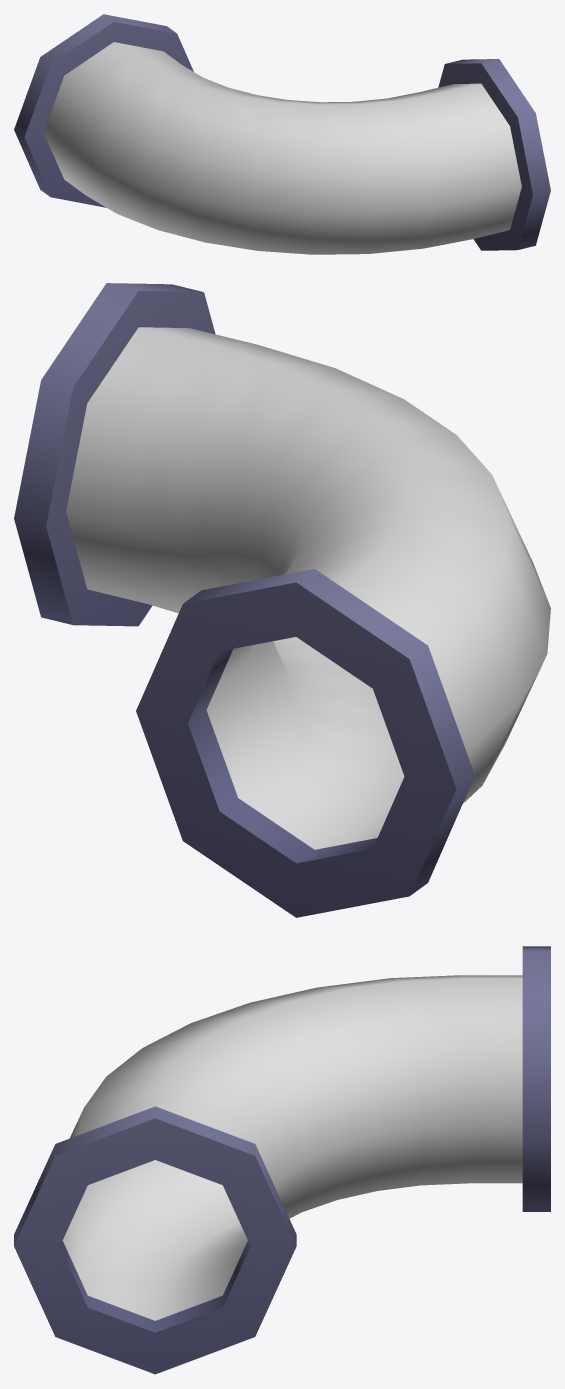
The model's file is pipe-glass-large-bend.glb.
3 renders of one model, top to bottom at view 1: azimuth 30°, elevation 25°; view 2: azimuth 150°, elevation 25°; view 3: azimuth 270°, elevation 25°, orthographic. The views are drawn at different scales.
Visible parts, largest first — view 1: pipe-glass-large-bend; view 2: pipe-glass-large-bend; view 3: pipe-glass-large-bend.
Boxes of the visible parts, bbox=[...] form: pipe-glass-large-bend: bbox=[14, 14, 550, 254]; pipe-glass-large-bend: bbox=[14, 283, 550, 917]; pipe-glass-large-bend: bbox=[14, 946, 550, 1374].
Bounding box in the file's own units: 1.9 × 1 × 1.9.
